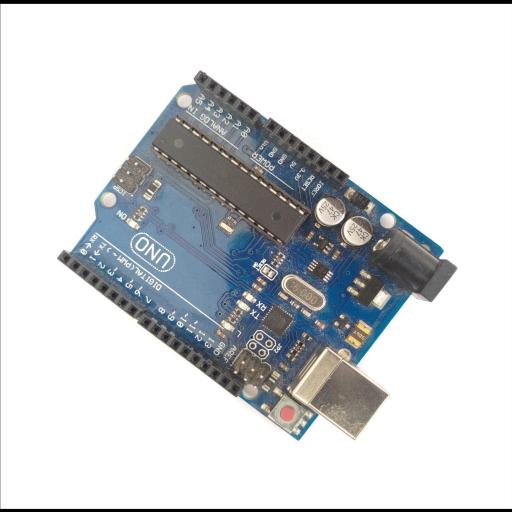Arduino Uno R3: (56, 69, 458, 442)
